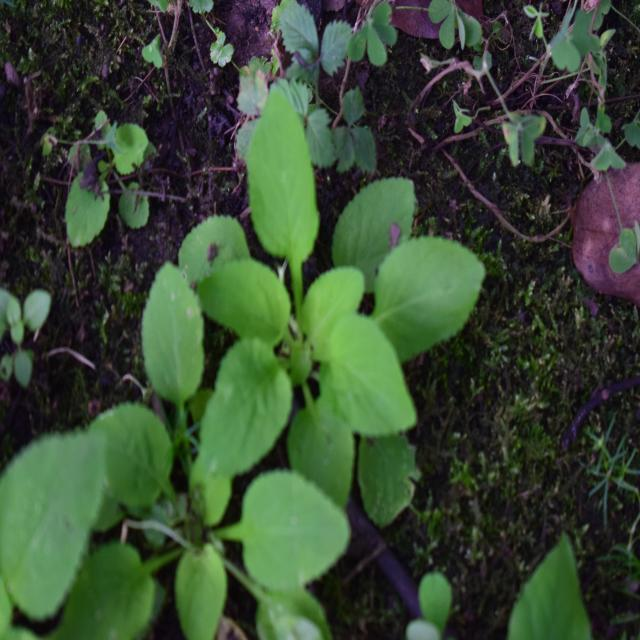Viola: (176, 96, 464, 534)
